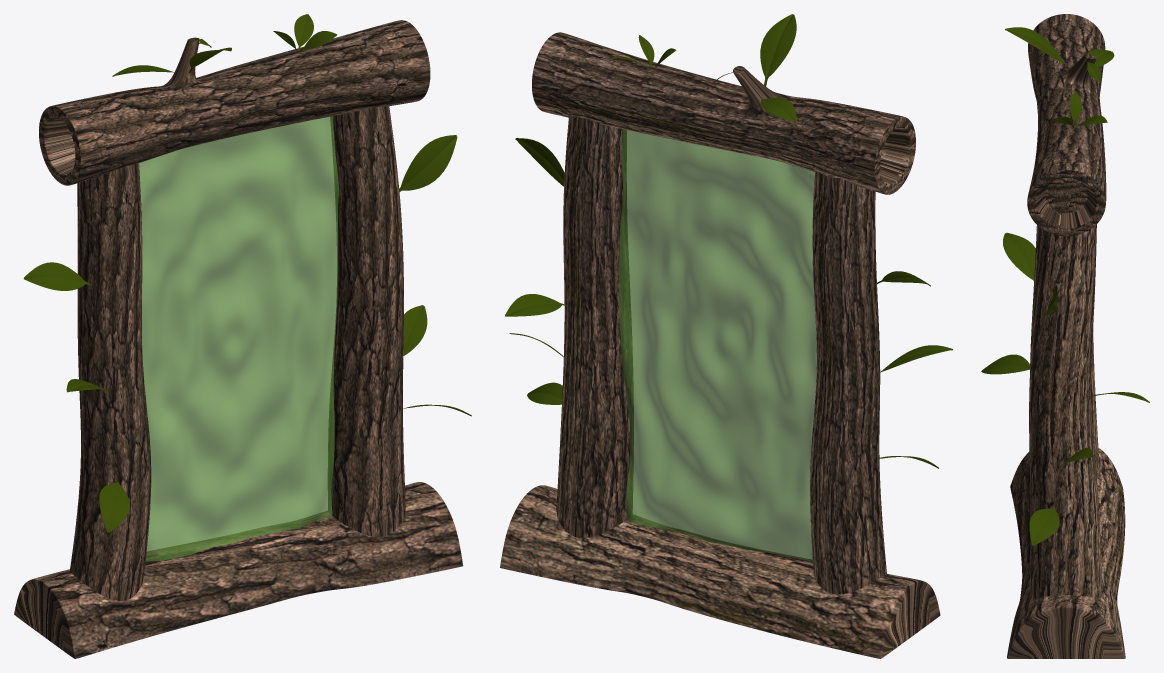
Rendered from wood_portal.glb.
3 renders of one model, left to right at view 1: azimuth 30°, elevation 25°; view 2: azimuth 150°, elevation 25°; view 3: azimuth 270°, elevation 25°, orthographic. The views are drawn at different scales.
Visible parts, largest first — view 1: Plane, Cylinder.004, Cylinder.003, Cylinder.002, Cylinder.001, leaf.006, leaf.003, leaf.005, leaf.004; view 2: Plane, Cylinder.004, Cylinder.002, Cylinder.003, Cylinder.001, leaf.002, leaf.009, leaf.006; view 3: Cylinder.002, Cylinder.003, Cylinder.004, Cylinder.001, leaf.008, leaf.007, leaf.002, leaf.005, leaf.001, leaf.013.
Part boxes in pixels (left/top/right/bottom): Plane: left=139, top=116, right=338, bottom=561; Cylinder.004: left=14, top=482, right=463, bottom=658; Cylinder.003: left=39, top=20, right=430, bottom=185; Cylinder.002: left=328, top=106, right=405, bottom=536; Cylinder.001: left=70, top=163, right=151, bottom=600; leaf.006: left=399, top=135, right=457, bottom=191; leaf.003: left=23, top=262, right=90, bottom=290; leaf.005: left=99, top=482, right=129, bottom=532; leaf.004: left=403, top=305, right=427, bottom=355; Plane: left=619, top=129, right=816, bottom=563; Cylinder.004: left=500, top=485, right=940, bottom=658; Cylinder.002: left=556, top=117, right=633, bottom=538; Cylinder.003: left=532, top=32, right=915, bottom=194; Cylinder.001: left=810, top=172, right=886, bottom=594; leaf.002: left=760, top=14, right=796, bottom=86; leaf.009: left=505, top=294, right=566, bottom=316; leaf.006: left=515, top=138, right=564, bottom=186; Cylinder.002: left=1029, top=224, right=1102, bottom=598; Cylinder.003: left=1027, top=14, right=1106, bottom=236; Cylinder.004: left=1007, top=448, right=1125, bottom=658; Cylinder.001: left=1030, top=225, right=1099, bottom=477; leaf.008: left=1003, top=232, right=1035, bottom=280; leaf.007: left=1029, top=508, right=1059, bottom=545; leaf.002: left=1005, top=27, right=1069, bottom=69; leaf.005: left=981, top=354, right=1029, bottom=374; leaf.001: left=1087, top=49, right=1114, bottom=66; leaf.013: left=1069, top=91, right=1081, bottom=125.
Size of the model in its own units: 1.8 by 2.29 by 0.6675.
Materials: 3 (1 with a texture image).
